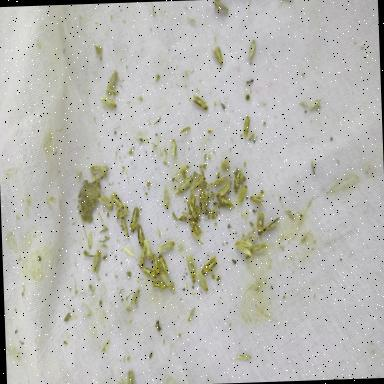pbw: (107, 188, 129, 213), (198, 188, 215, 220), (210, 192, 237, 210), (104, 69, 122, 95), (90, 164, 110, 186), (228, 185, 248, 205), (140, 264, 158, 286), (129, 282, 145, 306), (200, 255, 219, 275), (177, 174, 194, 196), (187, 216, 204, 238), (98, 94, 120, 111), (212, 42, 225, 70), (190, 92, 208, 112), (160, 270, 175, 294), (232, 239, 253, 256), (249, 190, 267, 208), (186, 196, 198, 222), (134, 244, 147, 268), (90, 248, 102, 274), (242, 114, 252, 144), (128, 207, 140, 232), (185, 176, 205, 191), (164, 137, 179, 157), (262, 217, 280, 233), (231, 166, 243, 190), (195, 270, 208, 292), (156, 254, 170, 274), (98, 192, 113, 210), (156, 240, 174, 255), (134, 222, 145, 246), (243, 226, 258, 243), (213, 173, 232, 186), (143, 238, 153, 262), (115, 206, 130, 222), (250, 240, 270, 252), (185, 254, 195, 278), (190, 228, 204, 245), (152, 252, 161, 277), (216, 181, 232, 195), (150, 279, 168, 291), (255, 211, 264, 235), (212, 1, 228, 14), (120, 216, 128, 240), (194, 204, 203, 224), (125, 369, 135, 384), (181, 211, 194, 219), (236, 354, 252, 360)
